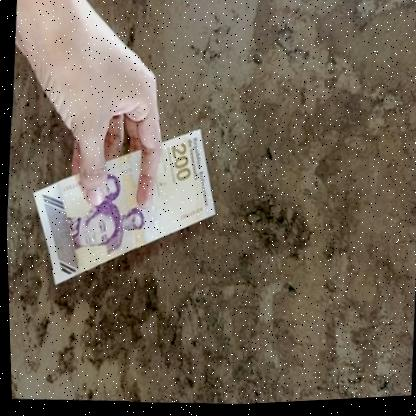two_hundred-front-vef: (23, 117, 223, 300)
